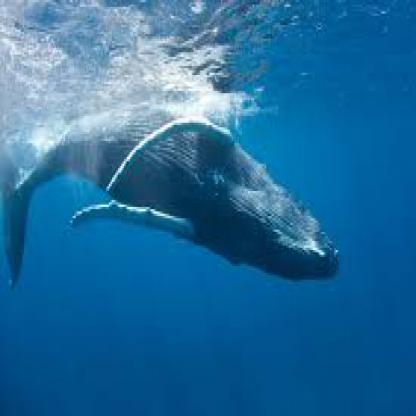blue_whale: (11, 107, 364, 368)
